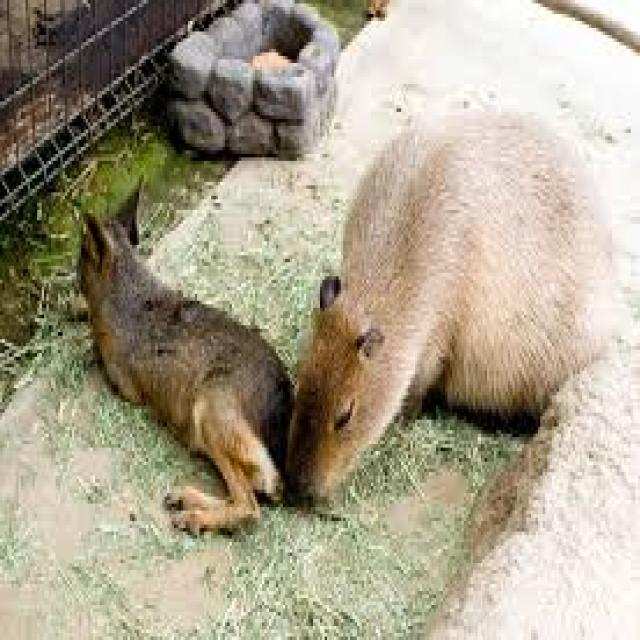capy: (288, 101, 620, 507)
